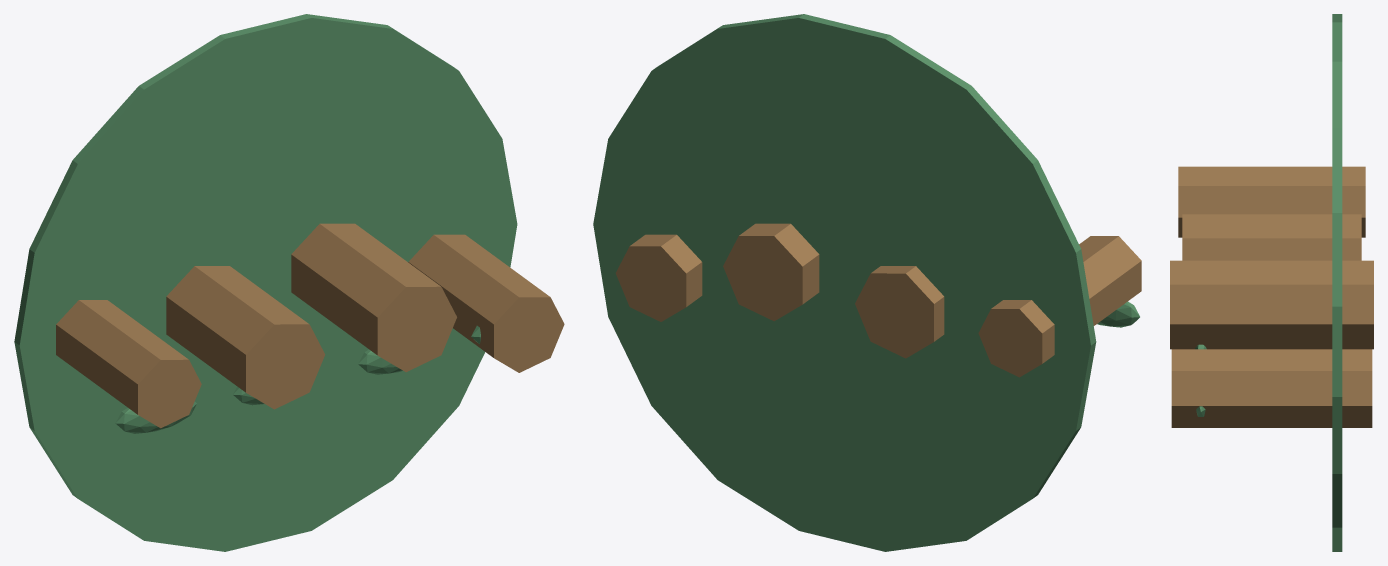
The model's file is 02_local_prop_cluster.glb.
The picture shows the model from 3 angles, left to right: view 1: azimuth 30°, elevation 25°; view 2: azimuth 150°, elevation 25°; view 3: azimuth 270°, elevation 25°; orthographic projection. The views are drawn at different scales.
Parts seen in each view (by area): view 1: scatter_base, root_stump_2, root_stump_1, root_stump_3, root_stump_0, moss_0; view 2: scatter_base, root_stump_0, root_stump_2, root_stump_1, root_stump_3; view 3: root_stump_2, root_stump_3, root_stump_0, root_stump_1, scatter_base.
Boxes of the visible parts, x1,y1,x2,y2 form: scatter_base: (14, 14, 517, 551); root_stump_2: (291, 223, 456, 372); root_stump_1: (166, 266, 325, 409); root_stump_3: (408, 234, 564, 372); root_stump_0: (56, 300, 201, 428); moss_0: (115, 401, 196, 433); scatter_base: (593, 14, 1096, 551); root_stump_0: (978, 236, 1141, 377); root_stump_2: (723, 223, 819, 321); root_stump_1: (855, 266, 944, 358); root_stump_3: (615, 234, 702, 321); root_stump_2: (1170, 260, 1373, 349); root_stump_3: (1171, 349, 1372, 427); root_stump_0: (1178, 166, 1365, 237); root_stump_1: (1182, 214, 1361, 260); scatter_base: (1332, 14, 1342, 551).
Bounding box in the file's own units: 1.9 × 1.87 × 0.7175.
